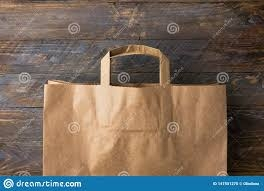paper: (39, 42, 231, 176)
